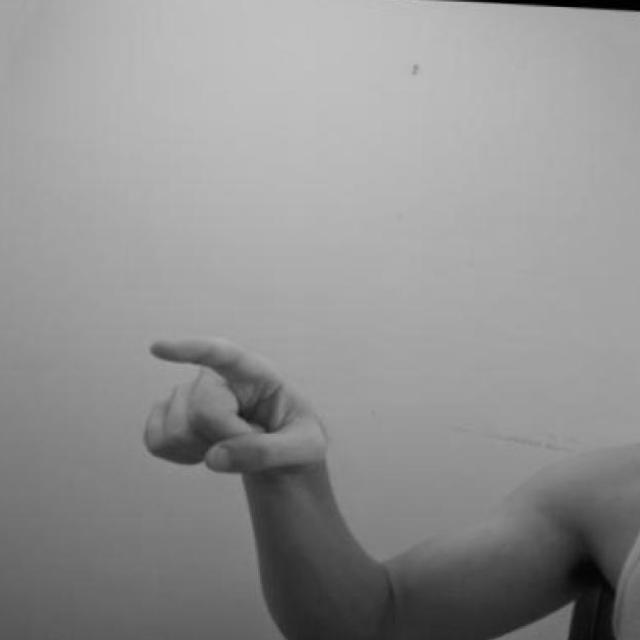Z: (134, 333, 347, 497)
